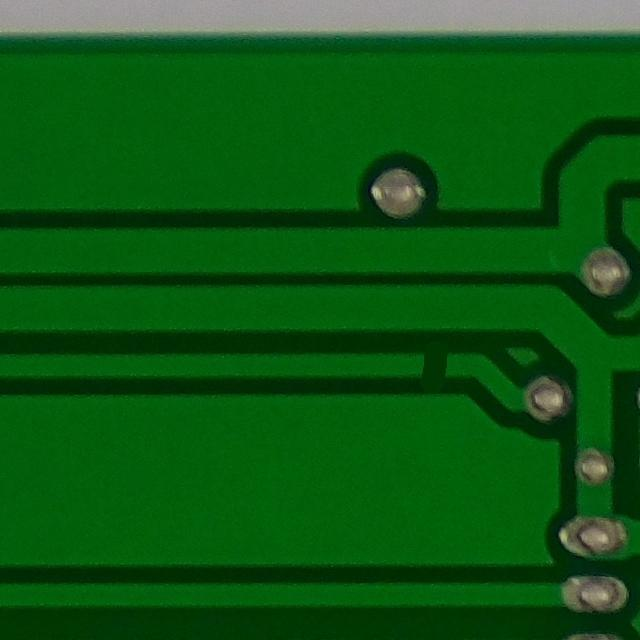open_circuit: (407, 340, 457, 390)
